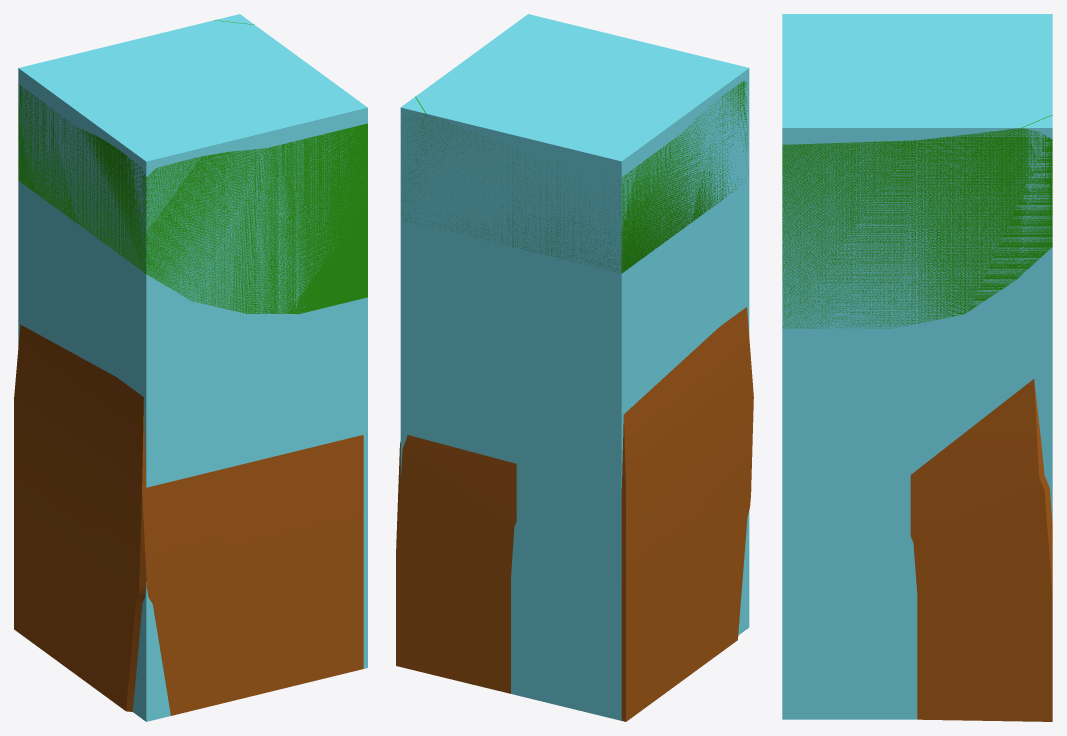
Rendered from PBOX1_Grass_03.FBX.
The picture shows the model from 3 angles, left to right: view 1: azimuth 30°, elevation 25°; view 2: azimuth 150°, elevation 25°; view 3: azimuth 270°, elevation 25°; orthographic projection. The views are drawn at different scales.
Visible parts, largest first — view 1: PBOX1_Grass_03, PBOX1_SUB_TAB_MUD_01, PBOX1_SUB_Grass_03; view 2: PBOX1_Grass_03, PBOX1_SUB_TAB_MUD_01, PBOX1_SUB_Grass_03; view 3: PBOX1_Grass_03, PBOX1_SUB_Grass_03, PBOX1_SUB_TAB_MUD_01.
Boxes of the visible parts, x1,y1,x2,y2 form: PBOX1_Grass_03: [18, 14, 367, 721]; PBOX1_SUB_TAB_MUD_01: [14, 324, 363, 715]; PBOX1_SUB_Grass_03: [18, 20, 367, 314]; PBOX1_Grass_03: [400, 14, 749, 720]; PBOX1_SUB_TAB_MUD_01: [396, 307, 753, 721]; PBOX1_SUB_Grass_03: [401, 81, 748, 273]; PBOX1_Grass_03: [782, 14, 1052, 719]; PBOX1_SUB_Grass_03: [782, 114, 1052, 328]; PBOX1_SUB_TAB_MUD_01: [910, 379, 1052, 721].
Size of the model in its own units: 6.24 by 14.5 by 6.01.
